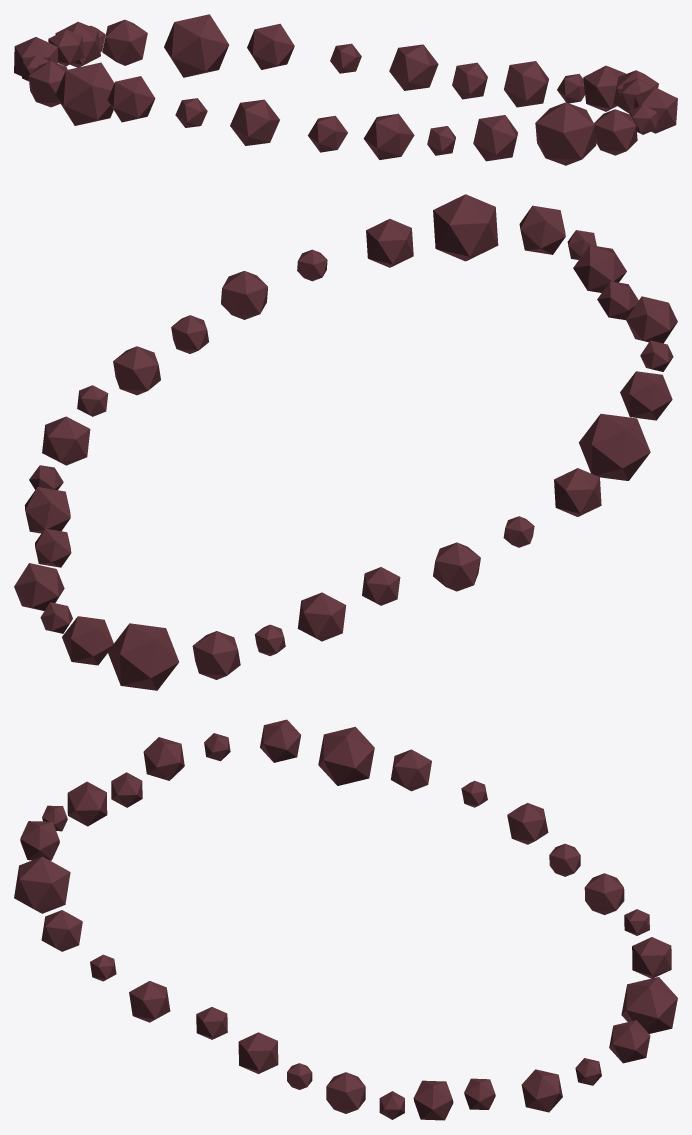
Rendered from Rocky_Planet_asteroid_chain.FBX.
3 views of the same model, one above another, from view 1: azimuth 30°, elevation 25°; view 2: azimuth 150°, elevation 25°; view 3: azimuth 270°, elevation 25° (orthographic). The views are drawn at different scales.
Visible parts, largest first — view 1: Rocky_Planet; view 2: Rocky_Planet; view 3: Rocky_Planet.
Boxes of the visible parts, x1,y1,x2,y2 form: Rocky_Planet: (14, 14, 677, 165); Rocky_Planet: (14, 194, 677, 690); Rocky_Planet: (14, 719, 677, 1120).
Bounding box in the file's own units: 163 × 63.23 × 183.
Materials: 1 (1 with a texture image).
